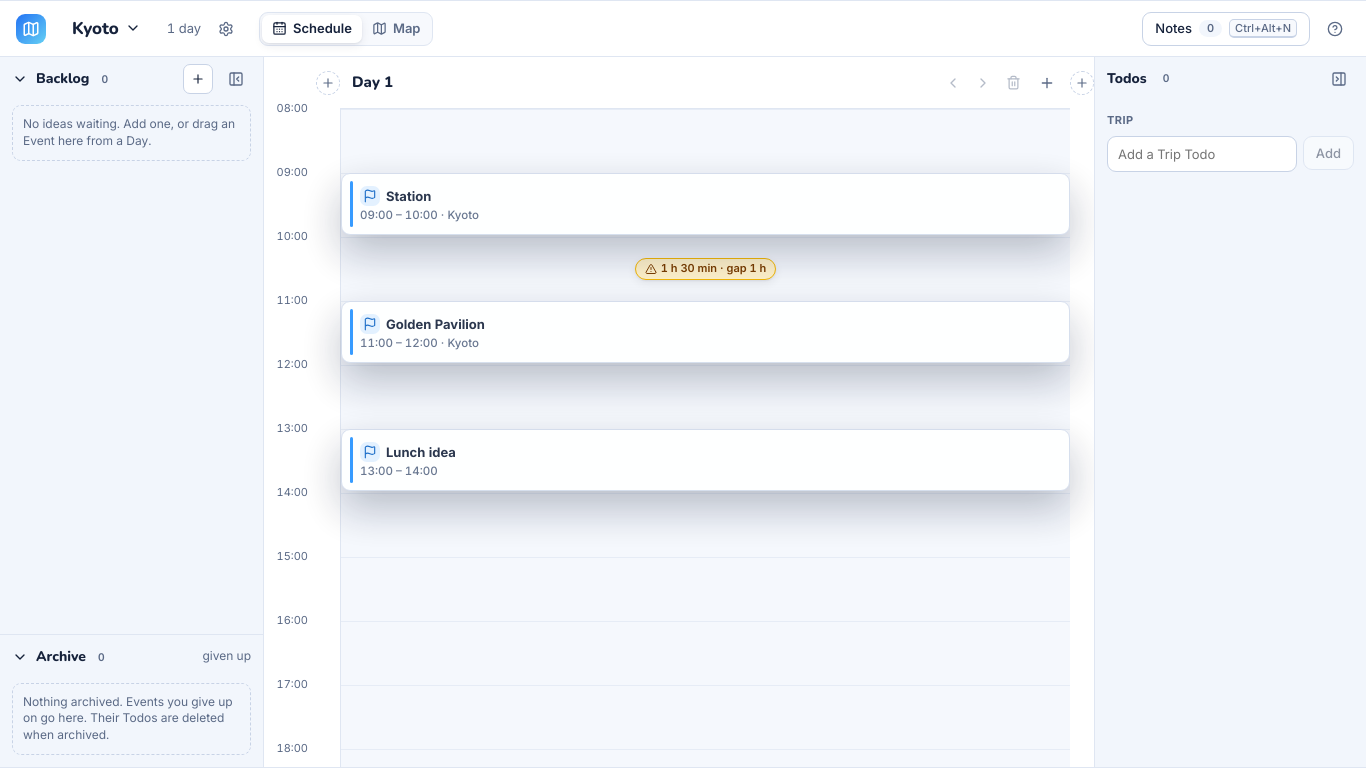
Test: Legs on the timeline › warns when the gap is shorter than the trip
The image size is (1366, 768).
Step 1. Click the button with aria-label "Open the Travel" → (705, 269), box x1=635 y1=258 x2=776 y2=280
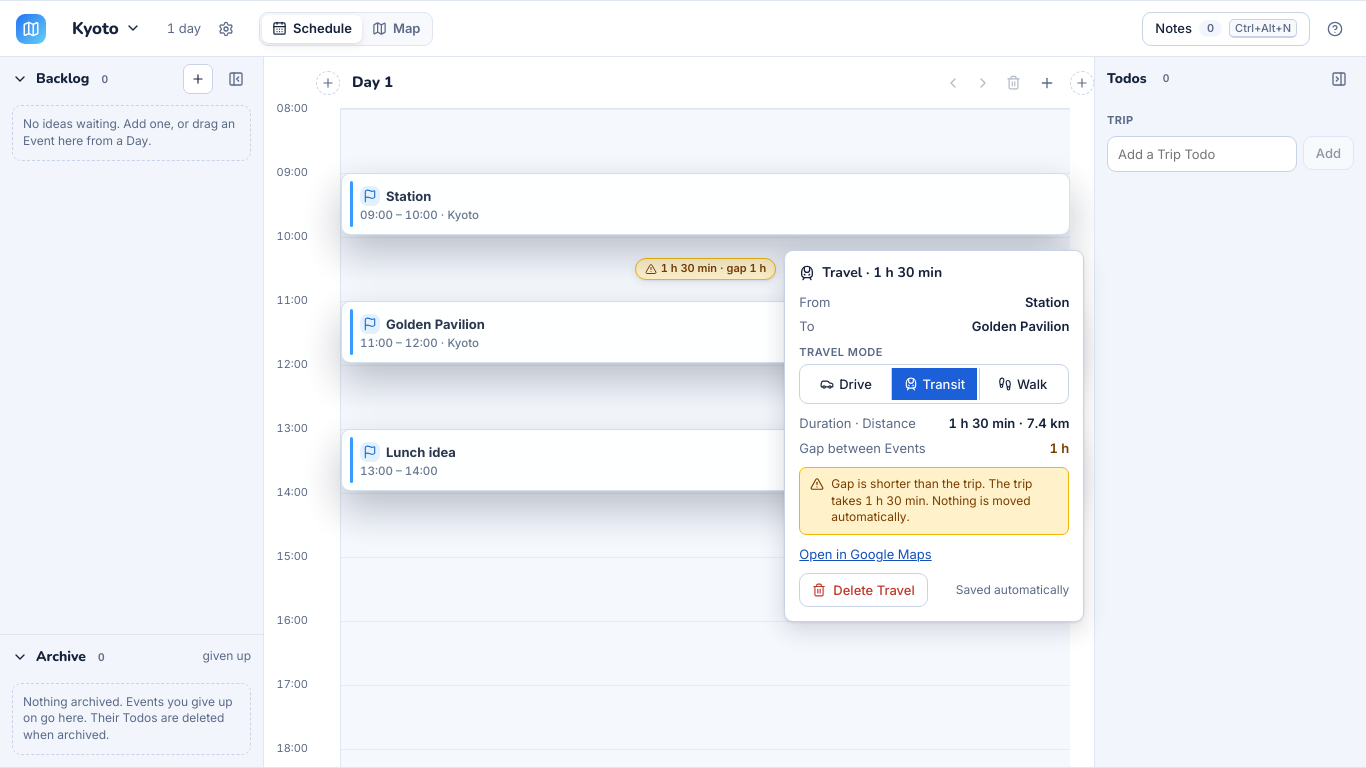
Check: the message shows "Gap is shorter than the trip", box x1=831 y1=476 x2=1032 y2=524
